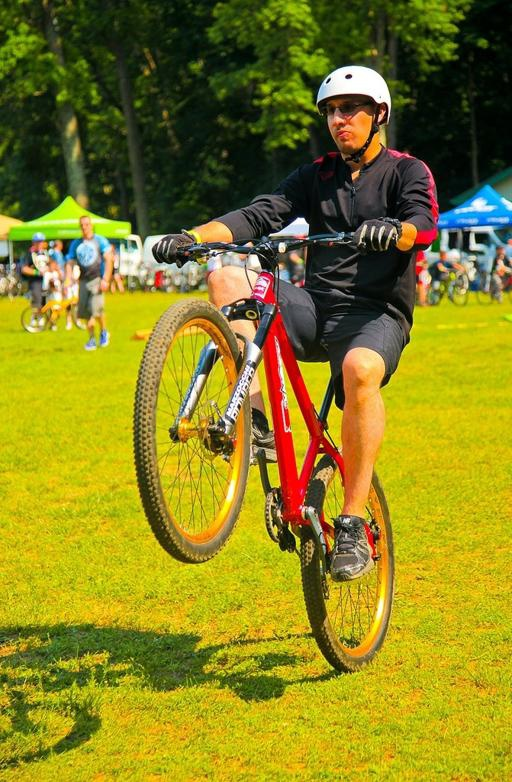non-vehicle: (133, 230, 395, 672), (20, 277, 97, 333), (424, 269, 468, 306), (475, 266, 511, 306)
